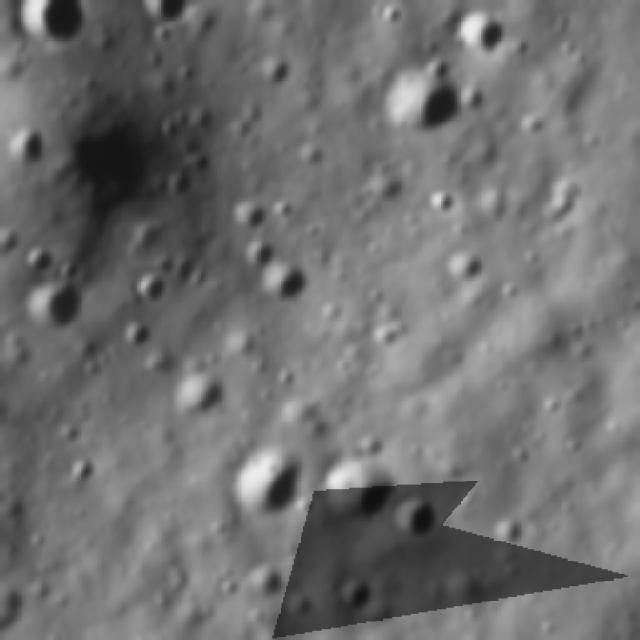crater: (51, 94, 180, 220), (368, 58, 472, 136), (225, 448, 306, 529), (315, 455, 397, 528), (14, 4, 94, 58), (22, 279, 88, 338), (170, 365, 238, 420), (445, 7, 517, 58), (257, 259, 315, 319), (386, 494, 446, 549), (437, 245, 492, 290), (7, 124, 51, 170), (116, 318, 162, 358), (486, 512, 531, 552), (132, 266, 172, 309), (332, 579, 378, 613), (232, 197, 270, 237), (242, 235, 278, 277), (258, 57, 298, 94), (21, 244, 64, 278), (248, 566, 288, 602), (426, 184, 462, 222), (372, 315, 408, 353), (71, 452, 106, 488), (0, 225, 28, 264), (283, 593, 317, 622), (514, 113, 551, 139), (152, 24, 179, 50), (635, 117, 640, 181)
